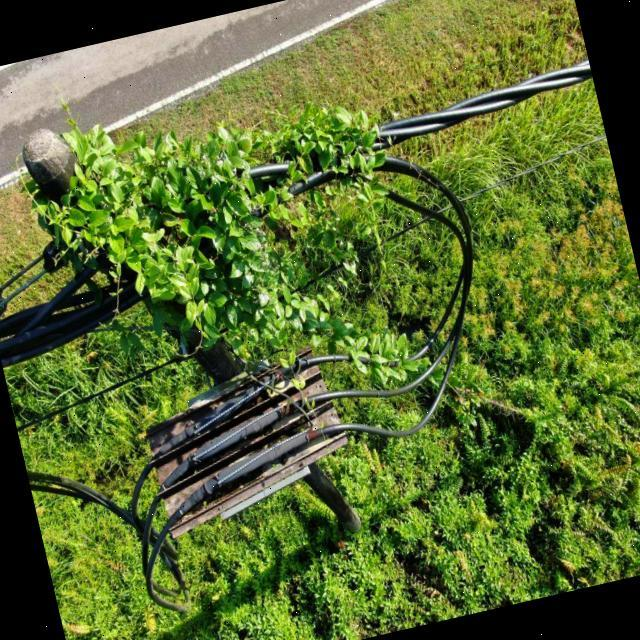critical vegetation: (0, 29, 449, 446)
